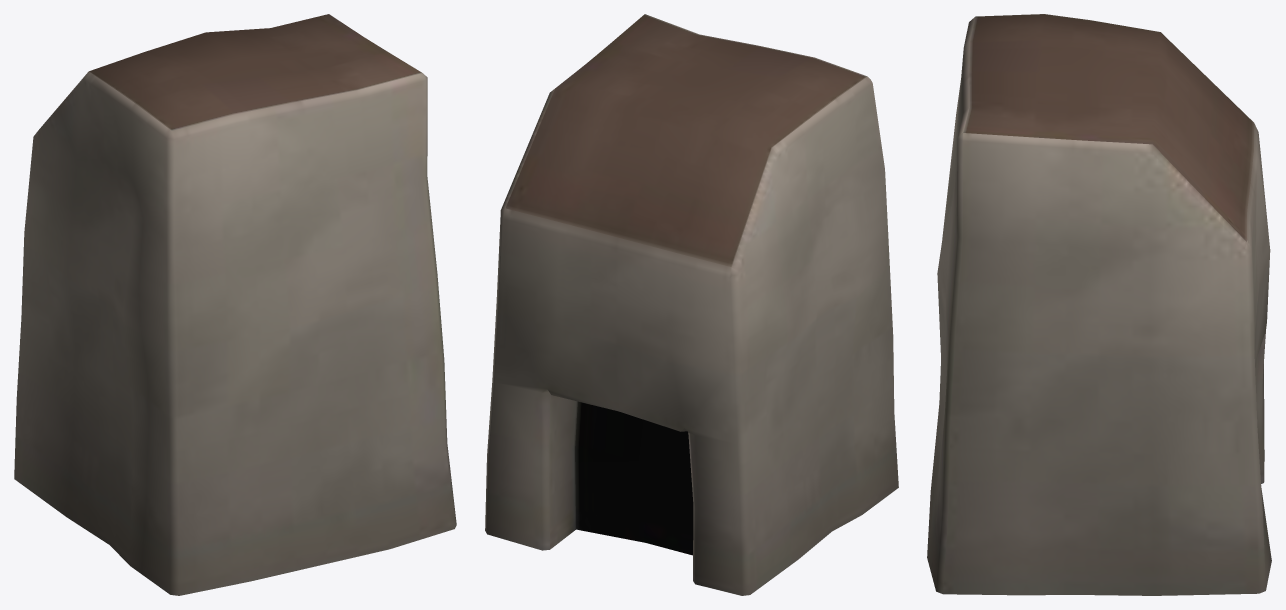
File: MSH_Building_Hole_004.glb
The picture shows the model from 3 angles, left to right: view 1: azimuth 30°, elevation 25°; view 2: azimuth 150°, elevation 25°; view 3: azimuth 270°, elevation 25°; orthographic projection. The views are drawn at different scales.
Parts seen in each view (by area): view 1: Base.017; view 2: Base.017; view 3: Base.017.
Boxes of the visible parts, x1,y1,x2,y2 form: Base.017: (14, 14, 456, 595); Base.017: (485, 14, 898, 595); Base.017: (927, 14, 1271, 595).
Bounding box in the file's own units: 5.33 × 7.94 × 5.47.
Materials: 1 (1 with a texture image).
